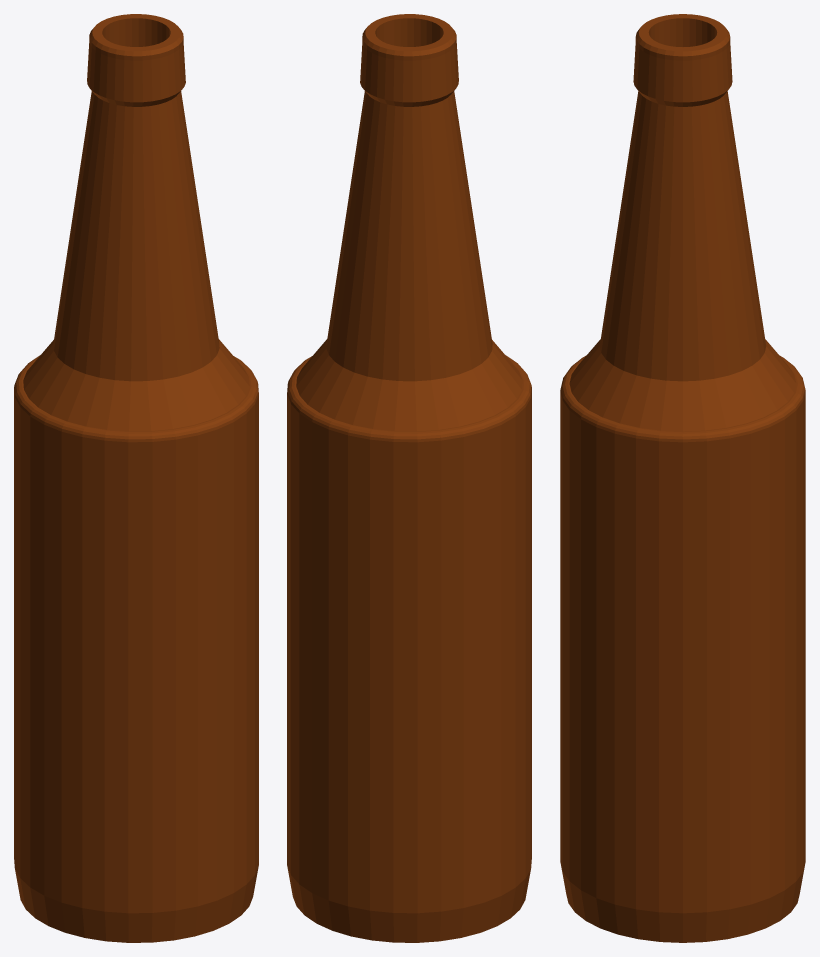
File: bottle.fbx
3 views of the same model, side by side, from view 1: azimuth 30°, elevation 25°; view 2: azimuth 150°, elevation 25°; view 3: azimuth 270°, elevation 25° (orthographic).
Parts seen in each view (by area): view 1: Circle; view 2: Circle; view 3: Circle.
Part boxes in pixels (<box>): Circle: <box>14,14,258,942</box>; Circle: <box>287,14,531,942</box>; Circle: <box>560,14,805,942</box>.
Size of the model in its own units: 200 by 774 by 200.
